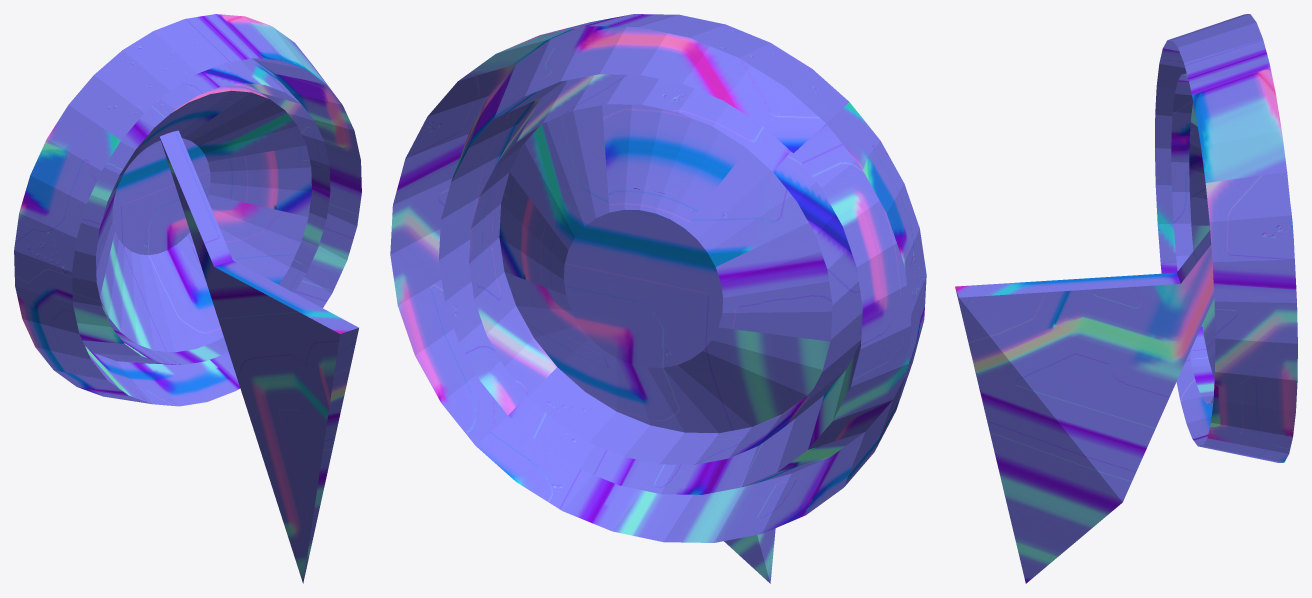
File: radar9.obj
3 renders of one model, left to right at view 1: azimuth 30°, elevation 25°; view 2: azimuth 150°, elevation 25°; view 3: azimuth 270°, elevation 25°, orthographic. The views are drawn at different scales.
Visible parts, largest first — view 1: radar; view 2: radar; view 3: radar.
Part boxes in pixels (<box>): radar: <box>14,14,361,583</box>; radar: <box>390,14,926,583</box>; radar: <box>955,14,1297,583</box>.
Bounding box in the file's own units: 0.977 × 1.3 × 0.7502.
